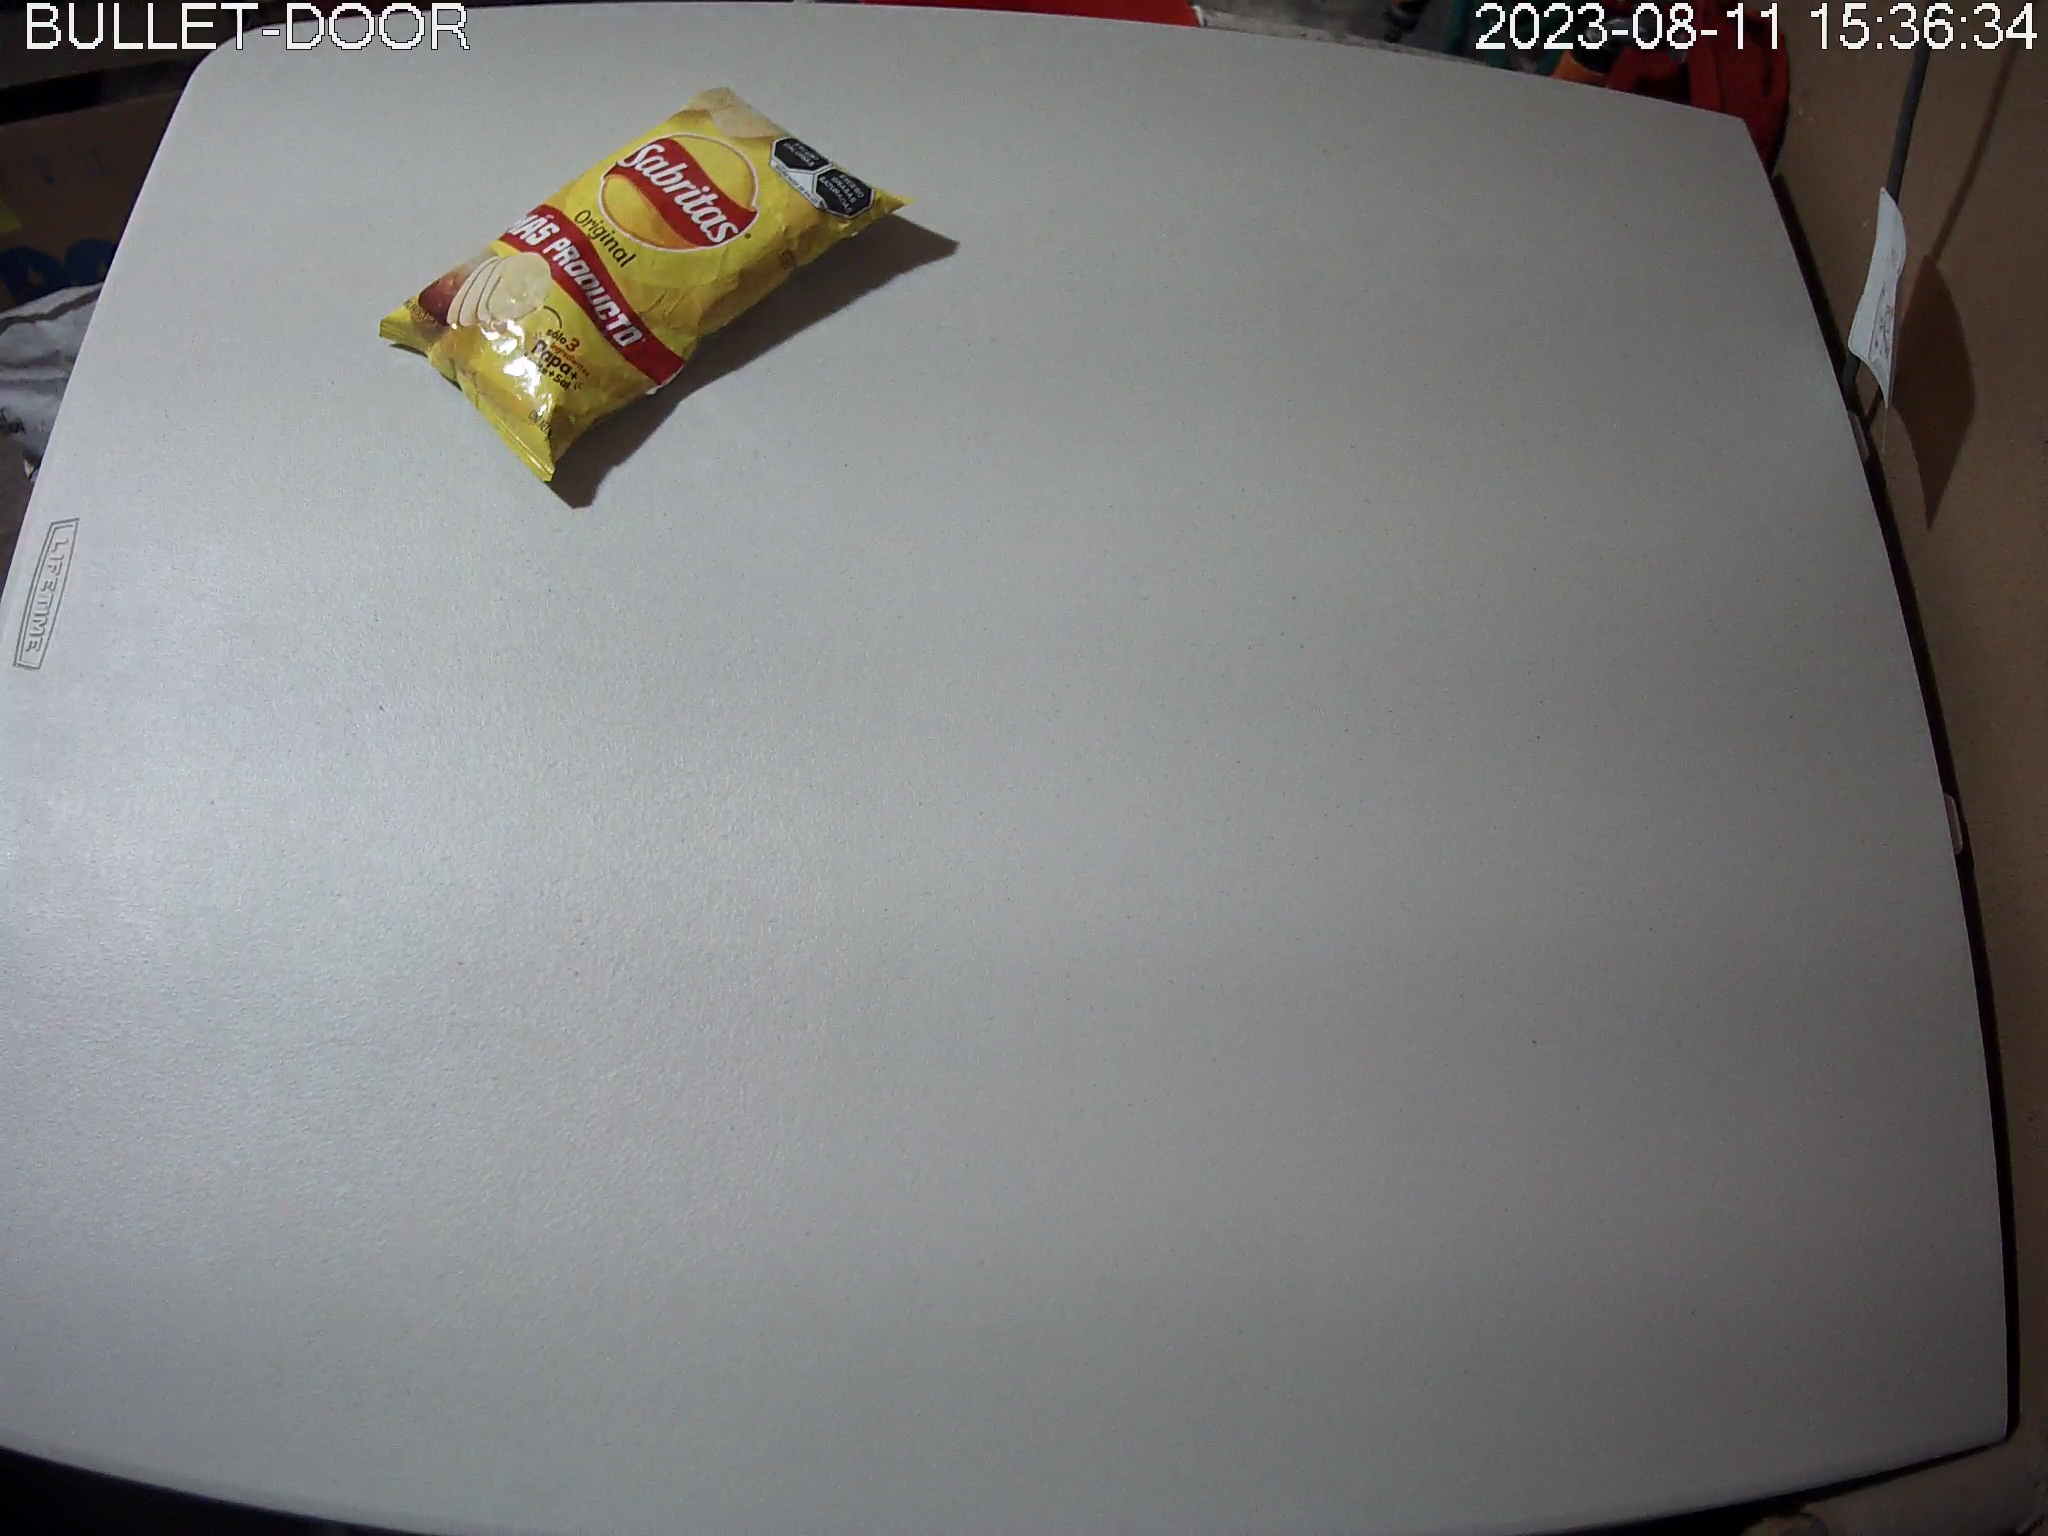Sabritas_45_F: (381, 82, 910, 487)
